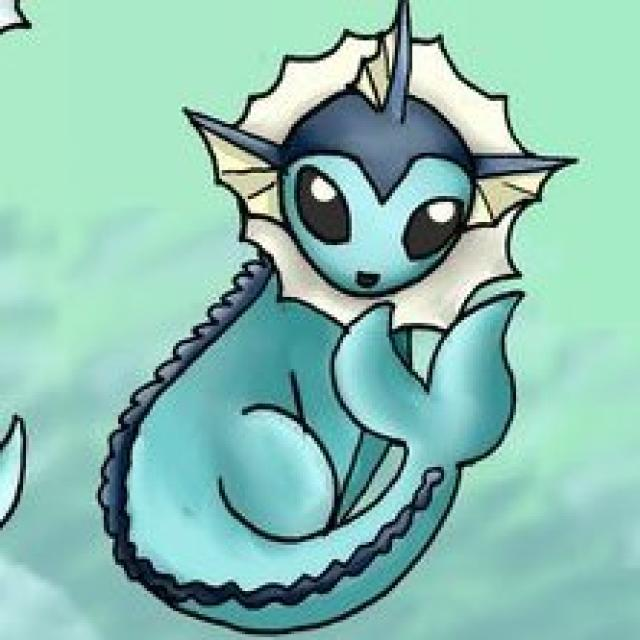Vaporeon: (98, 23, 552, 635)
